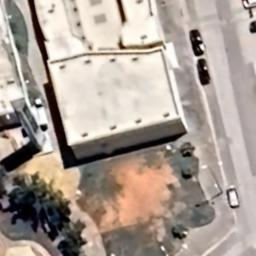sedan: (186, 27, 210, 58), (193, 58, 214, 88)
van: (226, 184, 241, 210)
